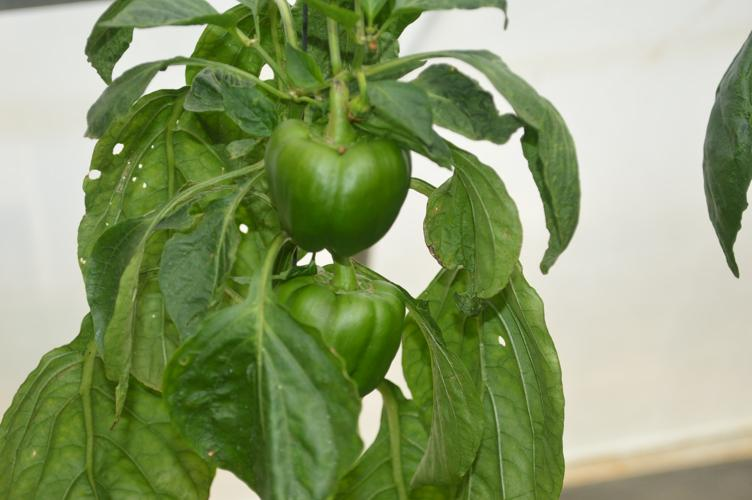BellPepper: (265, 119, 417, 256), (278, 268, 405, 402)
